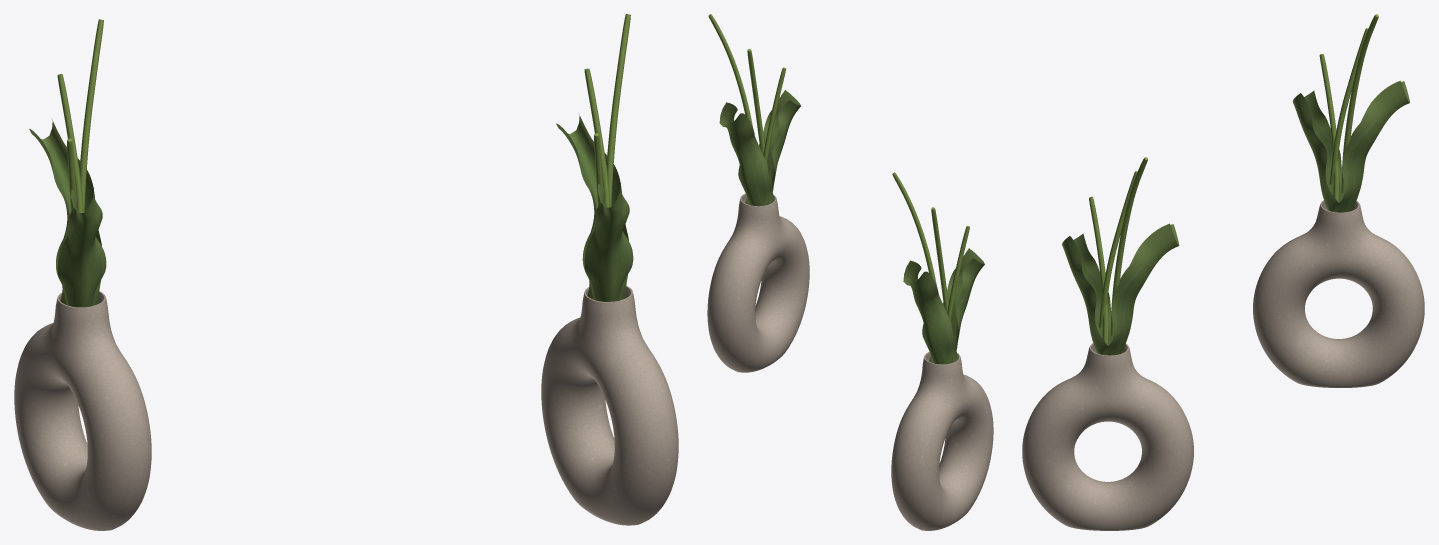
Rendered from Room4-Flower10.glb.
3 renders of one model, left to right at view 1: azimuth 30°, elevation 25°; view 2: azimuth 150°, elevation 25°; view 3: azimuth 270°, elevation 25°, orthographic. The views are drawn at different scales.
Visible parts, largest first — view 1: Object_18.001, Object_18.004; view 2: Object_18.004, Object_18.001; view 3: Object_18.001, Object_18.004.
Part boxes in pixels (left/top/right/bottom): Object_18.001: left=541, top=14, right=678, bottom=525; Object_18.004: left=14, top=19, right=151, bottom=530; Object_18.004: left=891, top=172, right=993, bottom=530; Object_18.001: left=707, top=14, right=809, bottom=372; Object_18.001: left=1022, top=157, right=1193, bottom=530; Object_18.004: left=1253, top=14, right=1424, bottom=387.
Size of the model in its own units: 3.29 by 3.28 by 3.04.
Materials: 3 (3 with a texture image).
